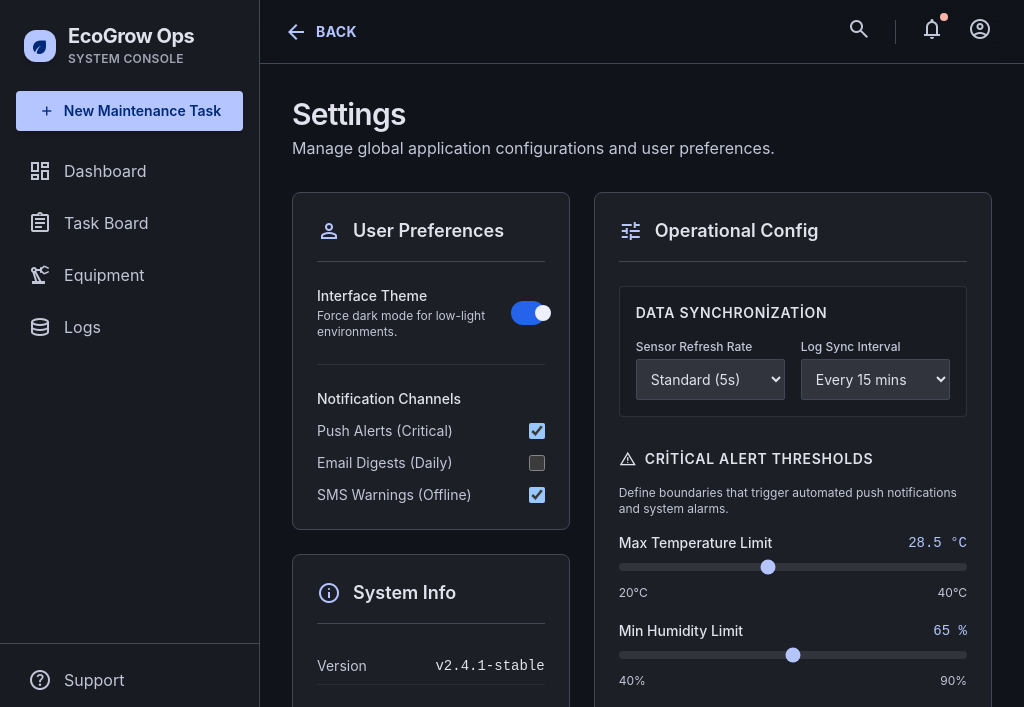
Test case: Settings › updates temperature range slider
Set the slider labelled "Max Temperature Limit" to "30" at (793, 567), box [619,563,967,571]
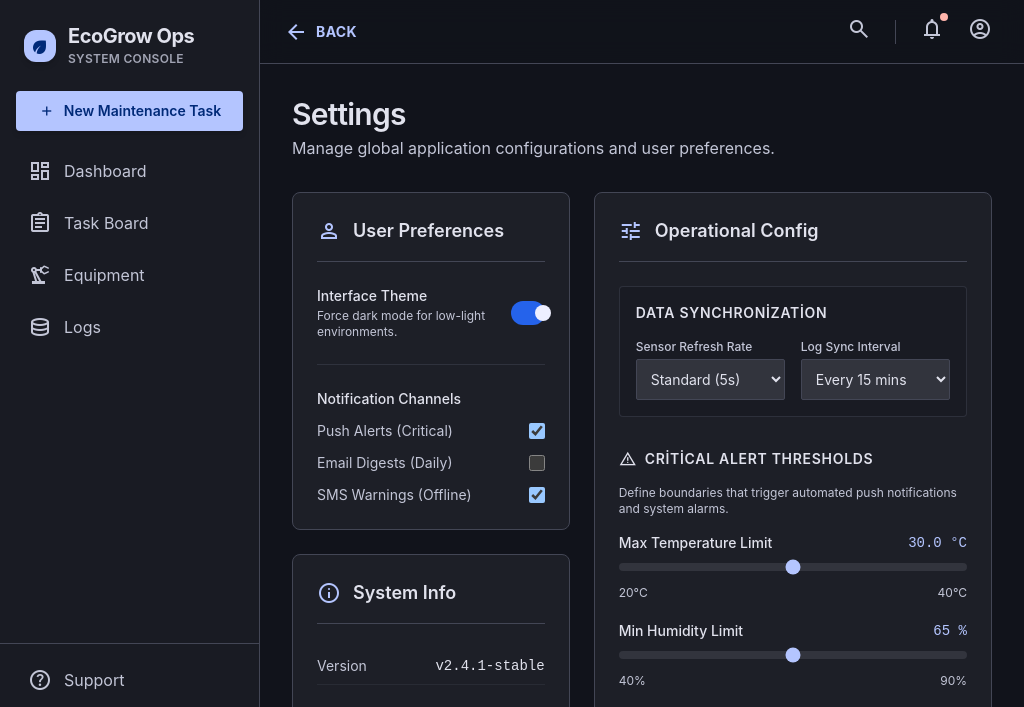
Expected: the text "30.0 °C" is shown, [908,533,967,553]
